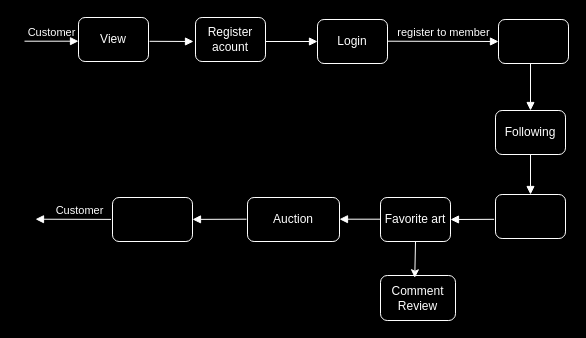
Image size: 586x338. Some labels were removed from this diagram. Each missing label, with the centre of its shape:
"Buying" goes at (152,219).
"Create artwork" goes at (533,41).
"Search artwork" goes at (530,216).
